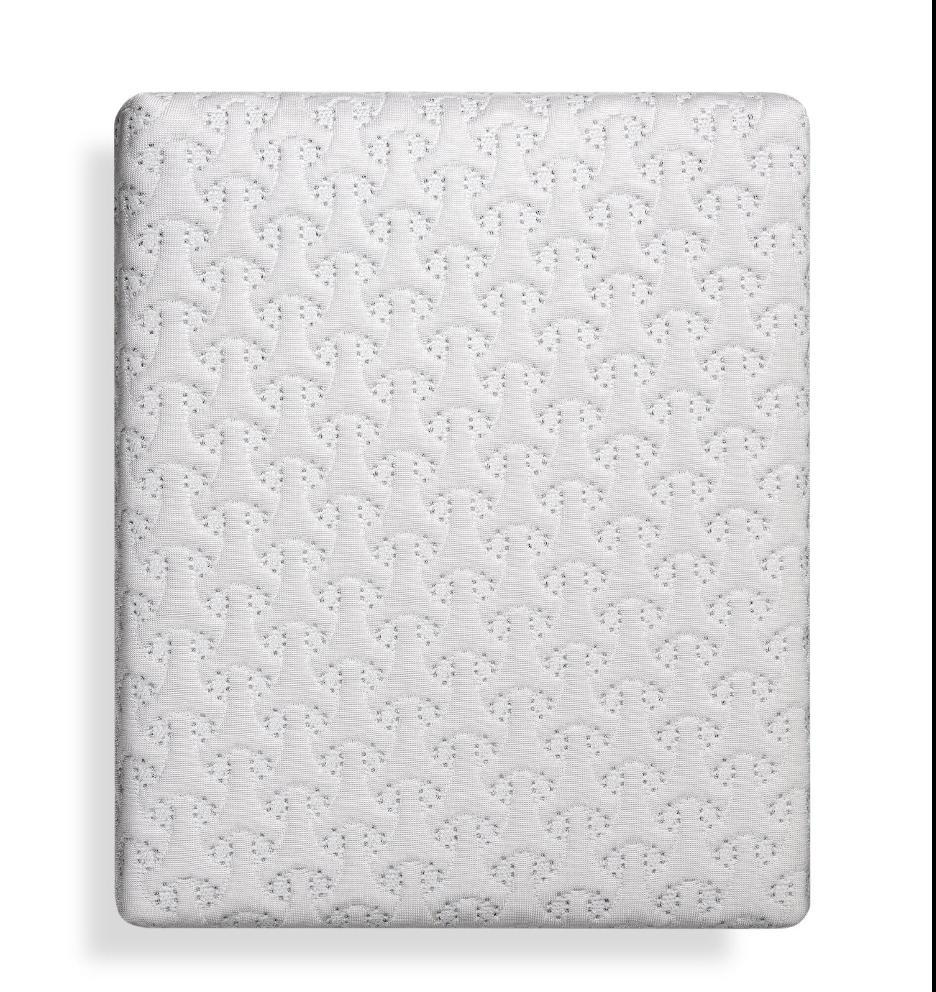Bed-Mattress: (105, 87, 818, 928)
